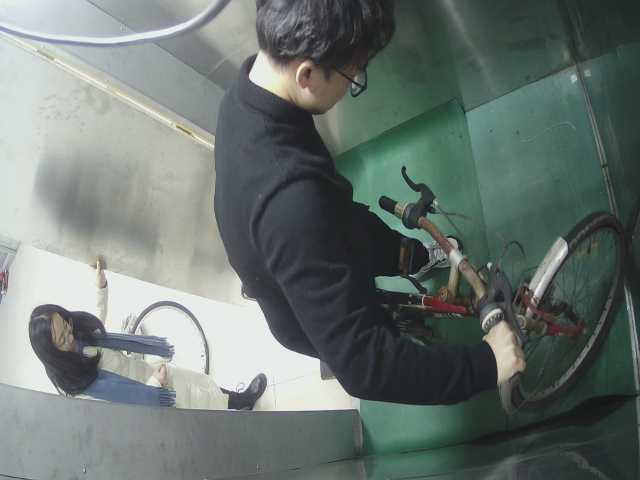bicycle: (363, 166, 629, 427), (118, 297, 219, 377)
person: (213, 2, 531, 414), (31, 260, 274, 415)
